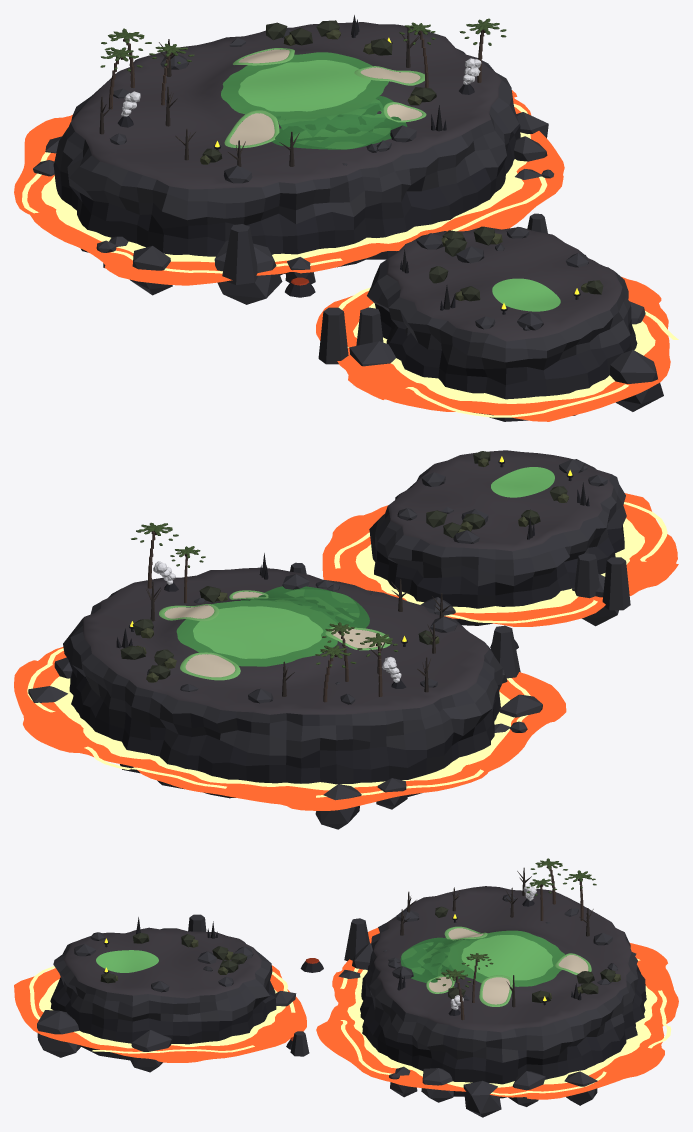
The model's file is hole_21.fbx.
The picture shows the model from 3 angles, top to bottom: view 1: azimuth 30°, elevation 25°; view 2: azimuth 150°, elevation 25°; view 3: azimuth 270°, elevation 25°; orthographic projection. The views are drawn at different scales.
Parts seen in each view (by area): view 1: TERRAIN_ISLAND_2, TERRAIN_ISLAND_1, ROCKS, WATER_SHALLOW_2, WATER_SHALLOW_1, TREES, GREEN_1, STACKS_1, WATER_FOAM_2, GREEN_APRON_1, FAIRWAY, WATER_FOAM_1 (+5 smaller); view 2: TERRAIN_ISLAND_2, TERRAIN_ISLAND_1, WATER_SHALLOW_2, WATER_SHALLOW_1, TREES, ROCKS, GREEN_1, WATER_FOAM_2, STACKS_1, GREEN_APRON_1, WATER_FOAM_1, FAIRWAY (+5 smaller); view 3: TERRAIN_ISLAND_2, TERRAIN_ISLAND_1, ROCKS, WATER_SHALLOW_2, WATER_SHALLOW_1, TREES, GREEN_1, WATER_FOAM_2, GREEN_APRON_1, STACKS_1, WATER_FOAM_1, FAIRWAY (+5 smaller).
Part boxes in pixels (x1=…): TERRAIN_ISLAND_2: x1=53, y1=22, x2=520, y2=275; TERRAIN_ISLAND_1: x1=367, y1=226, x2=637, y2=421; ROCKS: x1=33, y1=29, x2=663, y2=411; WATER_SHALLOW_2: x1=14, y1=90, x2=564, y2=285; WATER_SHALLOW_1: x1=316, y1=276, x2=670, y2=421; TREES: x1=99, y1=15, x2=603, y2=310; GREEN_1: x1=238, y1=60, x2=370, y2=111; STACKS_1: x1=222, y1=213, x2=547, y2=364; WATER_FOAM_2: x1=41, y1=132, x2=530, y2=262; GREEN_APRON_1: x1=221, y1=52, x2=388, y2=120; FAIRWAY: x1=276, y1=98, x2=390, y2=149; WATER_FOAM_1: x1=353, y1=303, x2=655, y2=403; TERRAIN_ISLAND_2: x1=63, y1=567, x2=502, y2=798; TERRAIN_ISLAND_1: x1=369, y1=450, x2=626, y2=625; WATER_SHALLOW_2: x1=14, y1=647, x2=566, y2=810; WATER_SHALLOW_1: x1=322, y1=493, x2=678, y2=626; TREES: x1=116, y1=451, x2=589, y2=702; ROCKS: x1=28, y1=459, x2=618, y2=829; GREEN_1: x1=193, y1=606, x2=323, y2=658; WATER_FOAM_2: x1=50, y1=676, x2=514, y2=790; STACKS_1: x1=290, y1=548, x2=630, y2=678; GREEN_APRON_1: x1=176, y1=600, x2=337, y2=666; WATER_FOAM_1: x1=355, y1=518, x2=644, y2=613; FAIRWAY: x1=250, y1=589, x2=359, y2=627; TERRAIN_ISLAND_2: x1=360, y1=886, x2=646, y2=1098; TERRAIN_ISLAND_1: x1=50, y1=927, x2=276, y2=1060; ROCKS: x1=37, y1=894, x2=636, y2=1117; WATER_SHALLOW_2: x1=316, y1=927, x2=678, y2=1099; WATER_SHALLOW_1: x1=14, y1=965, x2=306, y2=1062; TREES: x1=100, y1=858, x2=620, y2=1020; GREEN_1: x1=461, y1=935, x2=553, y2=980; WATER_FOAM_2: x1=347, y1=969, x2=657, y2=1087; GREEN_APRON_1: x1=448, y1=930, x2=564, y2=986; STACKS_1: x1=188, y1=914, x2=369, y2=1056; WATER_FOAM_1: x1=39, y1=979, x2=285, y2=1048; FAIRWAY: x1=401, y1=939, x2=470, y2=976.
Size of what is drawn, in the model's own units: 163 by 53.4 by 252.
